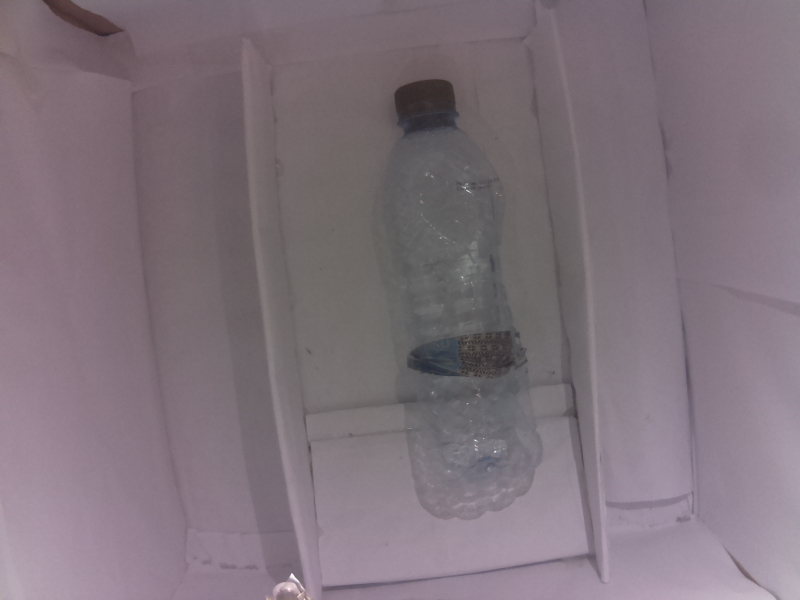botolplastik: (374, 79, 542, 518)
